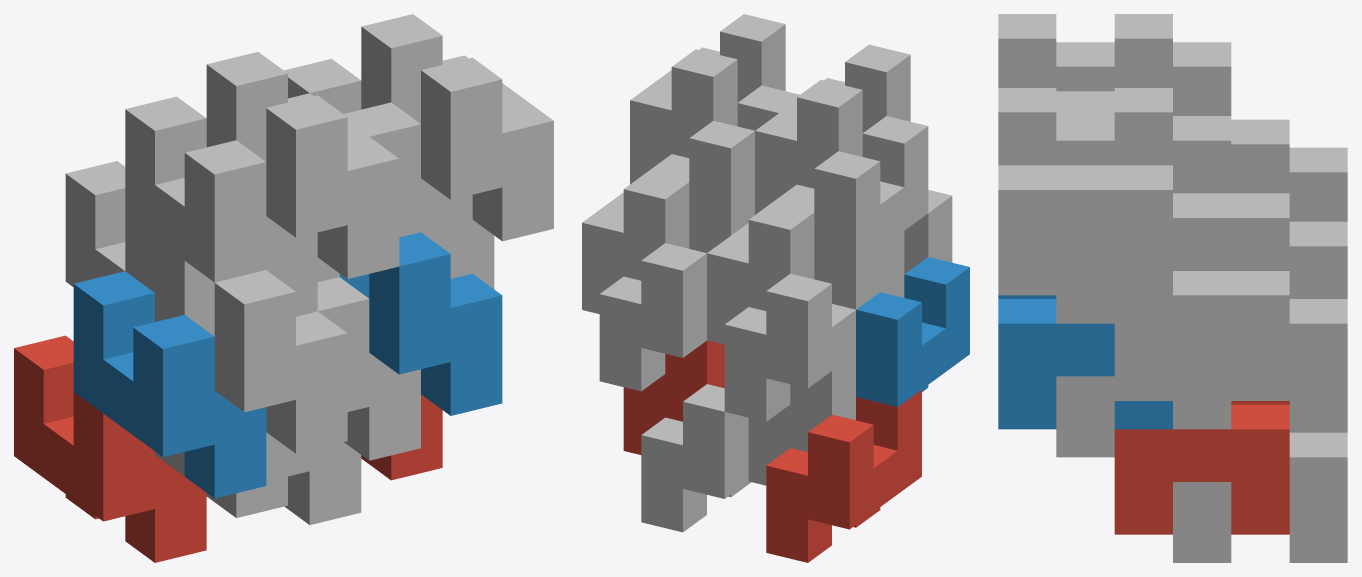
The model's file is tiling.obj.
3 renders of one model, left to right at view 1: azimuth 30°, elevation 25°; view 2: azimuth 150°, elevation 25°; view 3: azimuth 270°, elevation 25°, orthographic. The views are drawn at different scales.
Visible parts, largest first — view 1: copy_1_domain_2, copy_2_domain_4, copy_2_domain_8, copy_1_domain_4, copy_2_domain_2, copy_1_domain_1, copy_2_domain_6, copy_1_domain_8, copy_1_domain_6, copy_1_domain_3, copy_1_domain_5, copy_2_domain_1 (+2 smaller); view 2: copy_1_domain_1, copy_1_domain_3, copy_1_domain_4, copy_2_domain_8, copy_2_domain_4, copy_1_domain_2, copy_1_domain_7, copy_1_domain_5, copy_1_domain_8, copy_2_domain_7, copy_2_domain_3, copy_2_domain_1 (+2 smaller); view 3: copy_2_domain_8, copy_2_domain_7, copy_2_domain_5, copy_1_domain_7, copy_1_domain_8, copy_2_domain_6, copy_1_domain_5, copy_2_domain_4, copy_1_domain_4, copy_1_domain_6, copy_2_domain_3, copy_1_domain_3.
Boxes of the visible parts, x1,y1,x2,y2 form: copy_1_domain_2: (73,271,266,498); copy_2_domain_4: (206,52,399,278); copy_2_domain_8: (361,14,553,241); copy_1_domain_4: (125,96,317,316); copy_2_domain_2: (155,239,347,453); copy_1_domain_1: (14,335,206,562); copy_2_domain_6: (339,232,502,415); copy_1_domain_8: (284,59,472,278); copy_1_domain_6: (317,277,420,460); copy_1_domain_3: (65,161,154,292); copy_1_domain_5: (284,442,361,524); copy_2_domain_1: (155,432,287,517); copy_1_domain_1: (766,389,921,562); copy_1_domain_3: (724,249,880,421); copy_1_domain_4: (773,116,928,265); copy_2_domain_8: (630,14,785,184); copy_2_domain_4: (755,44,910,214); copy_1_domain_2: (856,257,969,406); copy_1_domain_7: (599,225,730,391); copy_1_domain_5: (641,384,751,532); copy_1_domain_8: (648,85,799,235); copy_2_domain_7: (582,172,689,313); copy_2_domain_3: (707,202,814,344); copy_2_domain_1: (748,353,855,485); copy_2_domain_8: (998,88,1172,295); copy_2_domain_7: (1114,193,1289,400); copy_2_domain_5: (1114,401,1289,534); copy_1_domain_7: (1173,221,1347,429); copy_1_domain_8: (1056,116,1231,323); copy_2_domain_6: (998,295,1172,429); copy_1_domain_5: (1173,429,1347,562); copy_2_domain_4: (998,14,1172,115); copy_1_domain_4: (1056,42,1231,115); copy_1_domain_6: (1056,376,1114,457); copy_2_domain_3: (1231,119,1289,193); copy_1_domain_3: (1289,147,1347,221).
Size of the model in its own units: 7 by 9 by 6.
